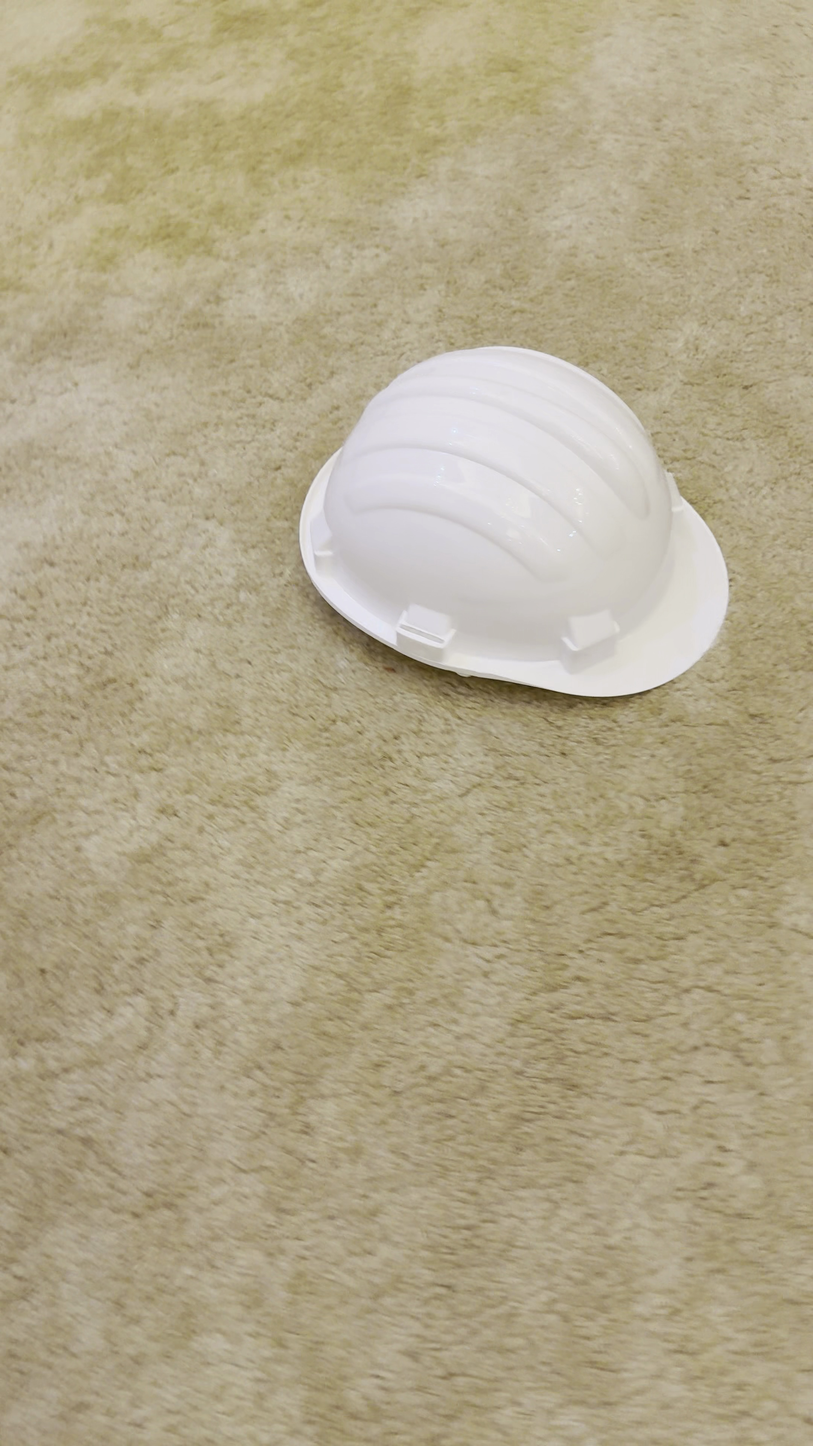safety_helmet: (296, 342, 731, 700)
